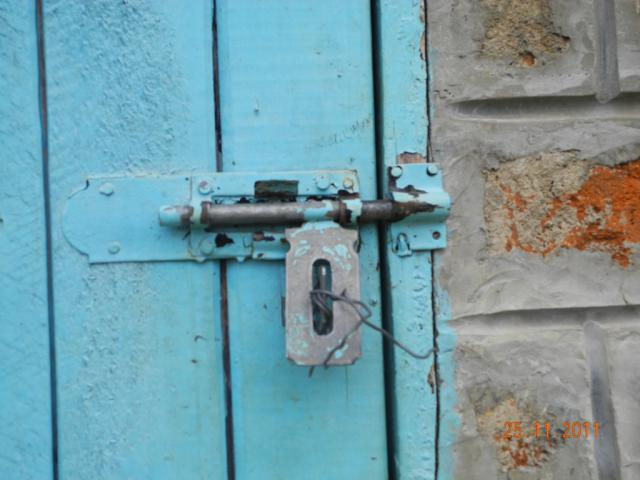Door-handle: (58, 164, 450, 368)
